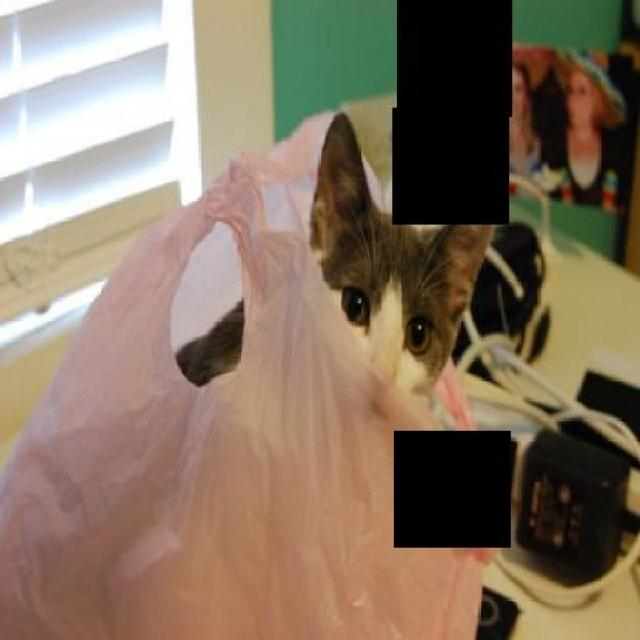plastic bag: (0, 102, 506, 636)
